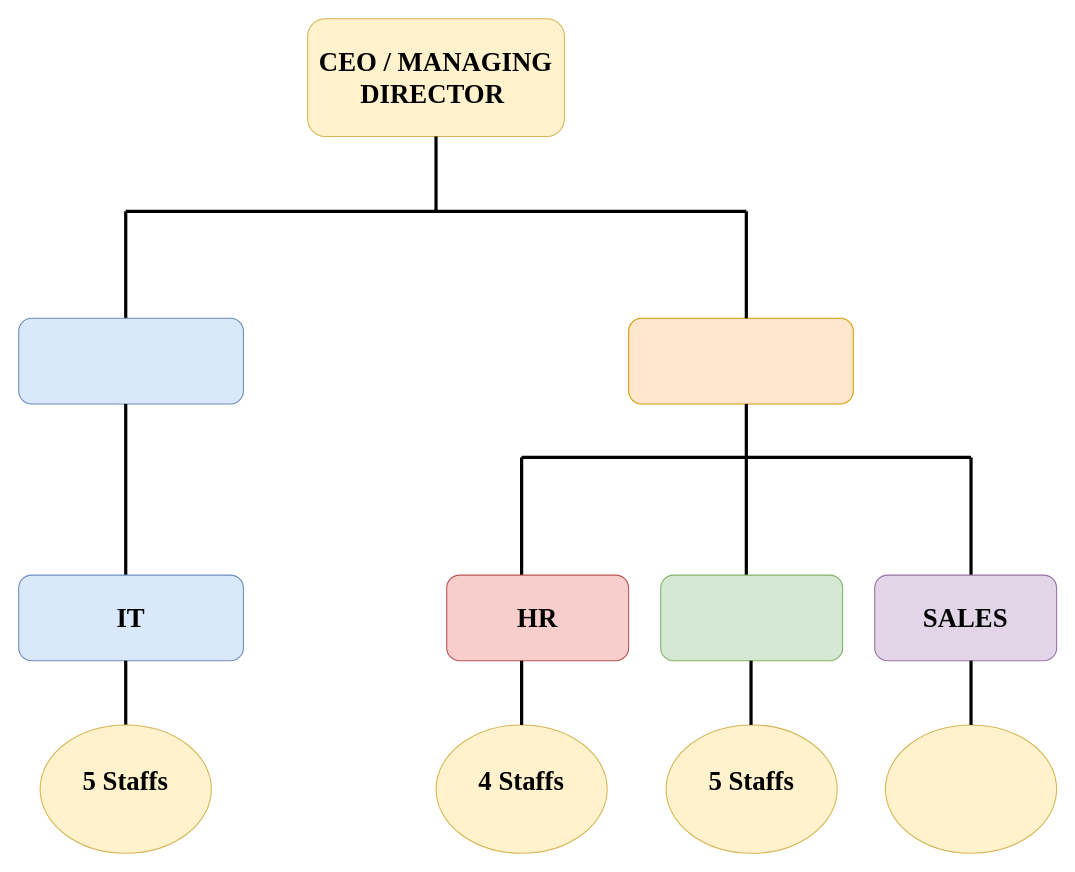
Some shapes in this 1075 by 872 pixel diagram are drawn without their labels. The shapes that lost their labels are listed below. From the top down, each one's centre as x and y in pixels, then its label:
the point at 130,360: TECHNOLOGY
the point at 740,360: BUSINESS
the point at 751,617: FINANCE
the point at 970,788: 6 Staffs
